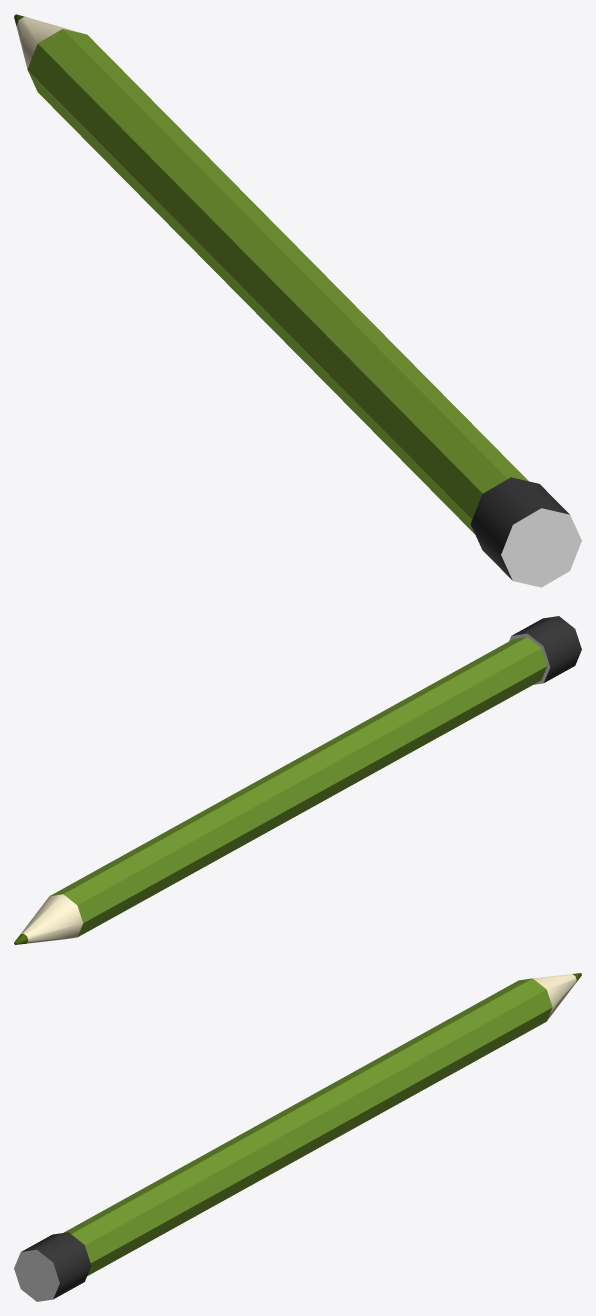
The model's file is 3d_Pen.fbx.
3 views of the same model, one above another, from view 1: azimuth 30°, elevation 25°; view 2: azimuth 150°, elevation 25°; view 3: azimuth 330°, elevation 25° (orthographic). The views are drawn at different scales.
Parts seen in each view (by area): view 1: 3d_Pen; view 2: 3d_Pen; view 3: 3d_Pen.
Boxes of the visible parts, x1,y1,x2,y2 form: 3d_Pen: (14,14,581,587); 3d_Pen: (14,616,581,944); 3d_Pen: (14,973,581,1301).
Size of the model in its own units: 0.0415 by 0.0152 by 0.235.
